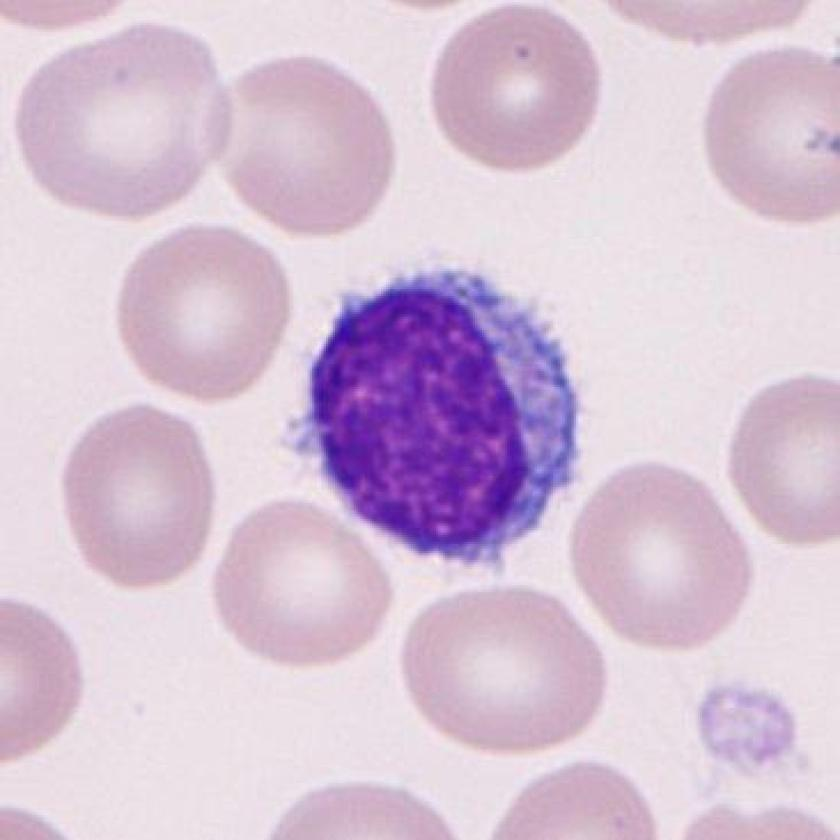lymphocyte: (286, 251, 602, 584)
